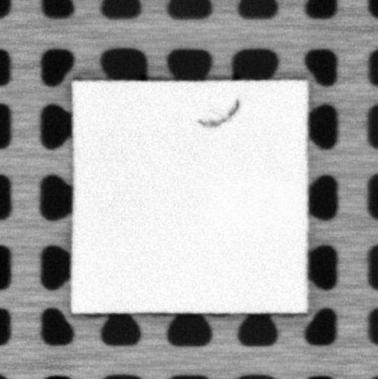DIE_INK: (195, 99, 241, 128)
